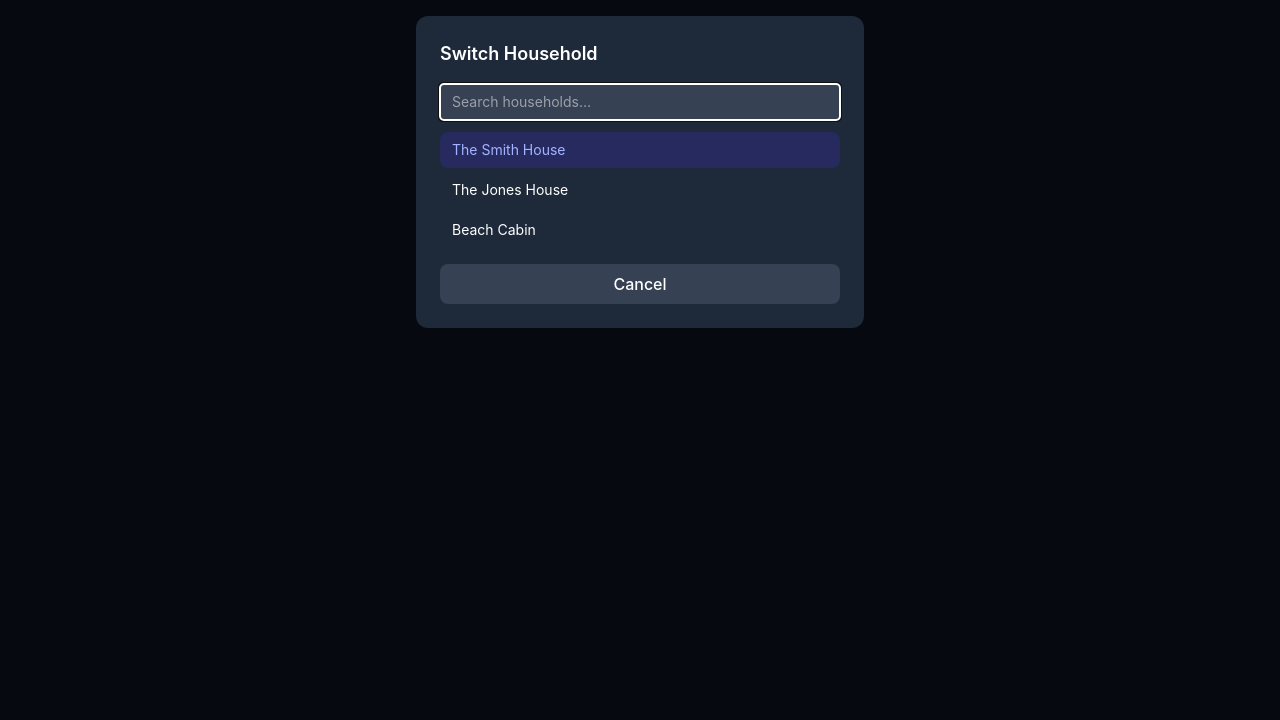
SwitchHouseholdModal › filters the list case-insensitively as the user types
Type "jones" into the field labelled "Search households". click: (640, 102)
box: top-left (440, 84), bottom-right (840, 120)
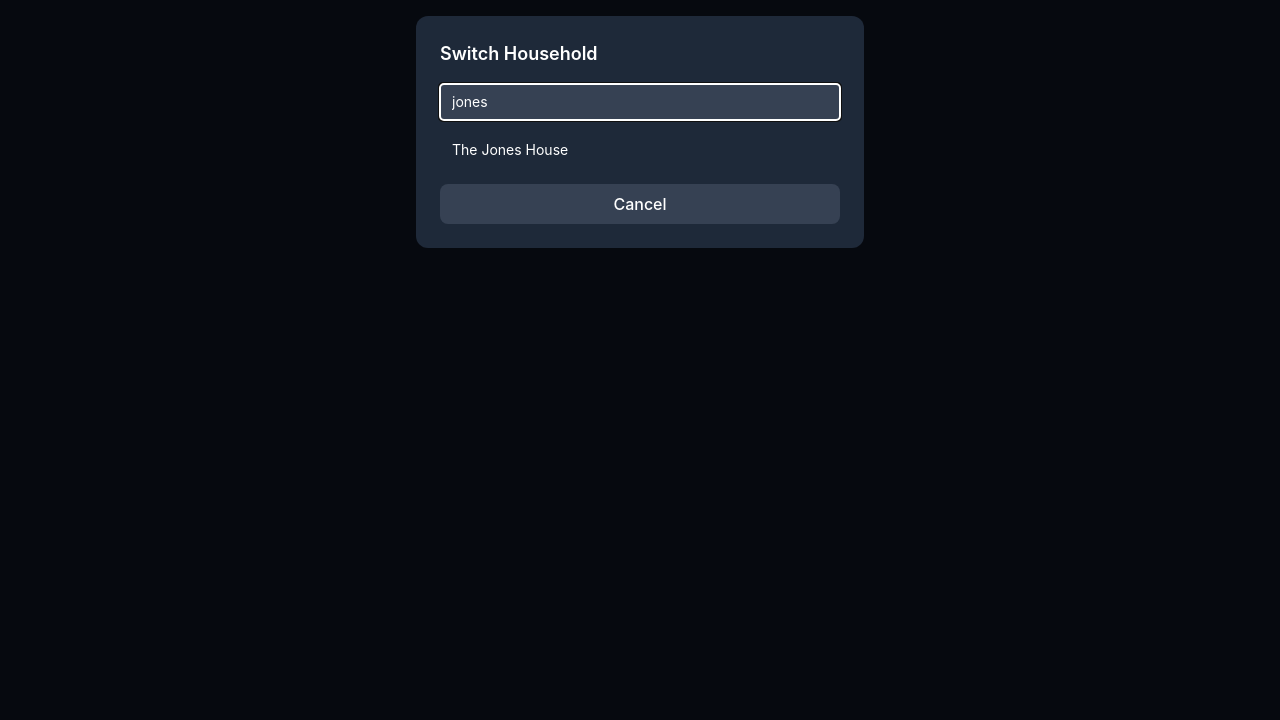
Expected: the button "The Jones House" is shown, top-left (440, 132), bottom-right (840, 168)
Result: the button "The Smith House" is gone
Result: the button "Beach Cabin" is gone
